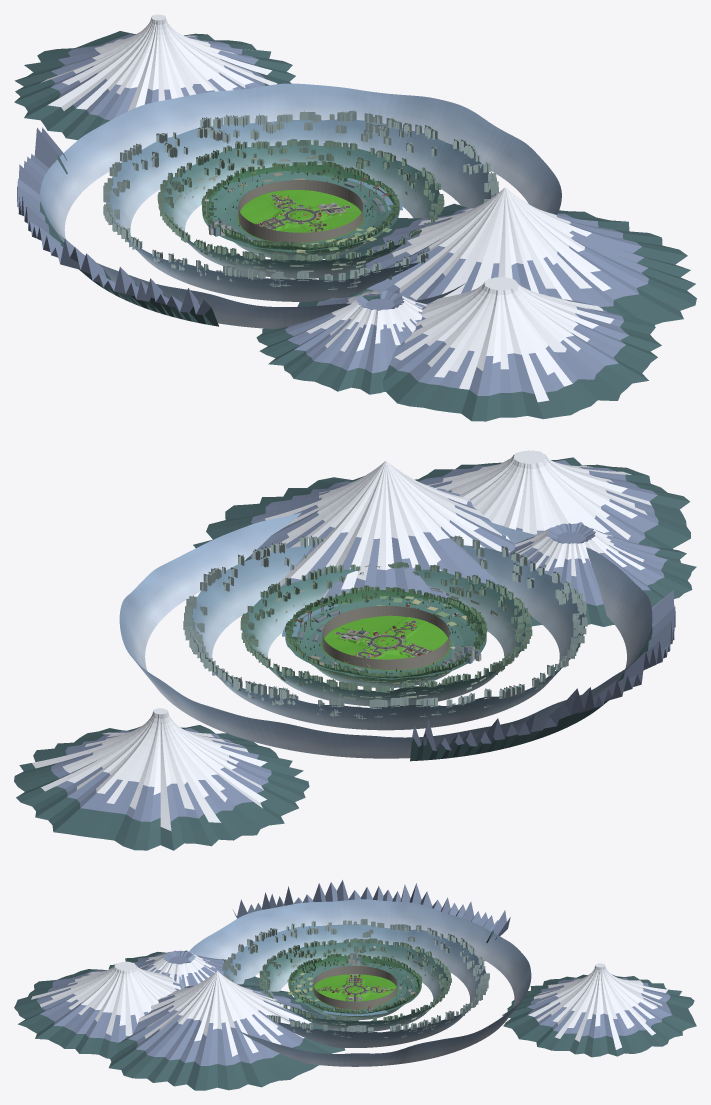
Rendered from world1.glb.
The picture shows the model from 3 angles, top to bottom: view 1: azimuth 30°, elevation 25°; view 2: azimuth 150°, elevation 25°; view 3: azimuth 270°, elevation 25°; orthographic projection. The views are drawn at different scales.
Visible parts, largest first — view 1: nocol_adams, nocol_rainier, nocol_ridges_3, nocol_baker, nocol_painted_trees, nocol_ridges_2, nocol_st_helens, nocol_ridges_1, nocol_olympics, nocol_far_land, hill, hidden_bound (+2 smaller); view 2: nocol_baker, nocol_rainier, nocol_ridges_3, nocol_painted_trees, nocol_adams, nocol_ridges_2, nocol_ridges_1, nocol_st_helens, nocol_olympics, nocol_far_land, hill, hidden_bound (+2 smaller); view 3: nocol_rainier, nocol_ridges_3, nocol_baker, nocol_adams, nocol_painted_trees, nocol_ridges_2, nocol_ridges_1, nocol_olympics, nocol_st_helens, nocol_far_land, hidden_bound, hill (+2 smaller).
Part boxes in pixels (x1,y1,x2,y2): nocol_adams: [382, 277, 661, 421]; nocol_rainier: [319, 187, 696, 324]; nocol_ridges_3: [40, 83, 561, 328]; nocol_baker: [14, 14, 295, 140]; nocol_painted_trees: [103, 110, 498, 290]; nocol_ridges_2: [105, 119, 495, 301]; nocol_st_helens: [256, 290, 427, 394]; nocol_ridges_1: [163, 144, 439, 278]; nocol_olympics: [17, 127, 218, 326]; nocol_far_land: [202, 171, 399, 252]; hill: [238, 190, 363, 242]; hidden_bound: [238, 180, 363, 242]; nocol_baker: [14, 708, 309, 850]; nocol_rainier: [193, 461, 515, 613]; nocol_ridges_3: [119, 512, 652, 758]; nocol_painted_trees: [183, 535, 587, 719]; nocol_adams: [415, 450, 690, 549]; nocol_ridges_2: [192, 545, 584, 730]; nocol_ridges_1: [242, 569, 525, 706]; nocol_st_helens: [509, 523, 696, 626]; nocol_olympics: [410, 589, 675, 761]; nocol_far_land: [285, 597, 486, 679]; hill: [321, 615, 450, 670]; hidden_bound: [322, 605, 449, 669]; nocol_rainier: [109, 971, 345, 1090]; nocol_ridges_3: [179, 899, 531, 1066]; nocol_baker: [502, 963, 696, 1057]; nocol_adams: [14, 961, 184, 1058]; nocol_painted_trees: [222, 919, 489, 1038]; nocol_ridges_2: [223, 924, 485, 1047]; nocol_ridges_1: [262, 942, 447, 1031]; nocol_olympics: [232, 880, 510, 960]; nocol_st_helens: [108, 950, 259, 986]; nocol_far_land: [289, 962, 421, 1011]; hidden_bound: [313, 966, 397, 1009]; hill: [313, 974, 397, 1009].
Size of the model in its own units: 2614 by 470 by 4462.
